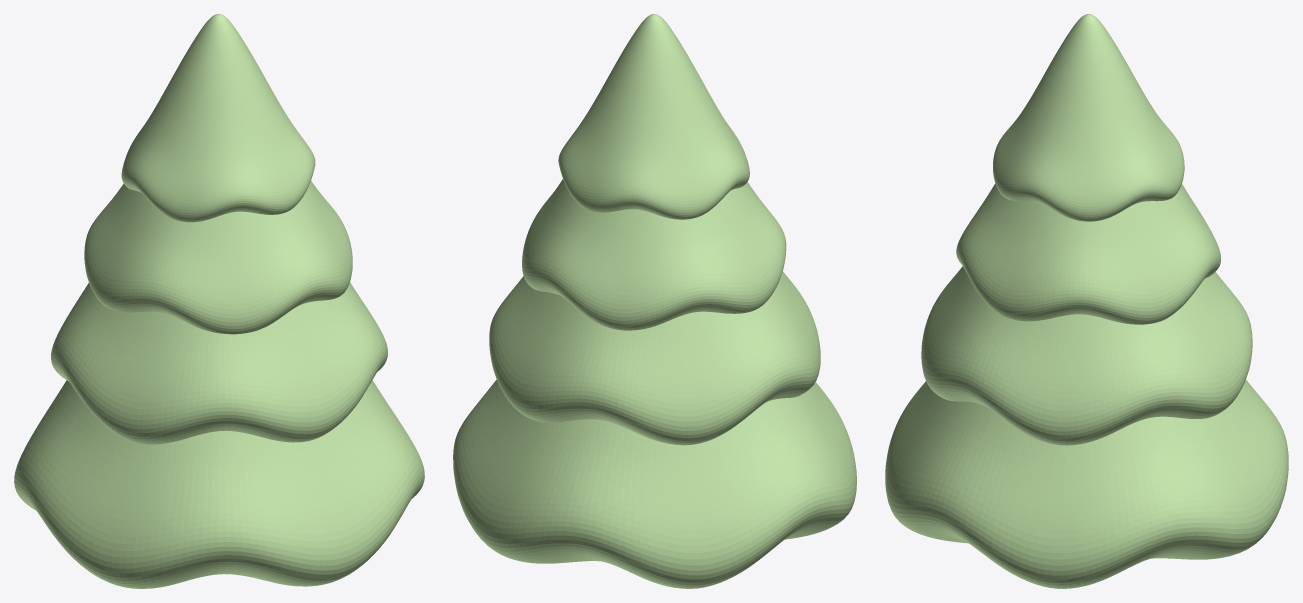
3 views of the same model, side by side, from view 1: azimuth 30°, elevation 25°; view 2: azimuth 150°, elevation 25°; view 3: azimuth 270°, elevation 25° (orthographic).
Parts seen in each view (by area): view 1: Cone.1 (×2), Cone (×2); view 2: Cone.1 (×2), Cone (×2); view 3: Cone.1 (×2), Cone (×2).
Part boxes in pixels (x1,y1,x2,y2): Cone.1 (×2): [14, 282, 424, 588]; Cone (×2): [84, 14, 352, 334]; Cone.1 (×2): [453, 271, 856, 588]; Cone (×2): [522, 14, 786, 330]; Cone.1 (×2): [885, 266, 1288, 588]; Cone (×2): [956, 14, 1220, 324].
Size of the model in its own units: 3327 by 4778 by 3324.
